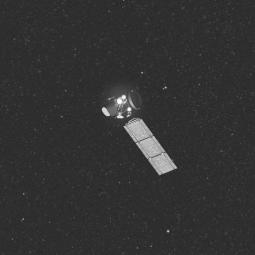earth_observation_sat_1: (95, 81, 179, 178)
